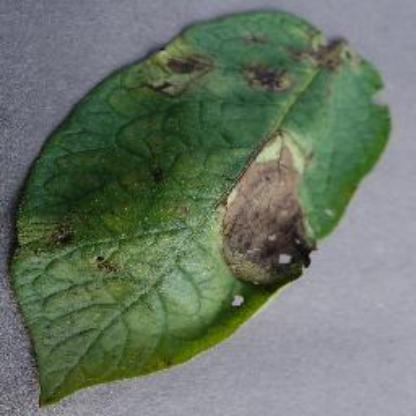Late-Blight: (8, 7, 400, 408)
